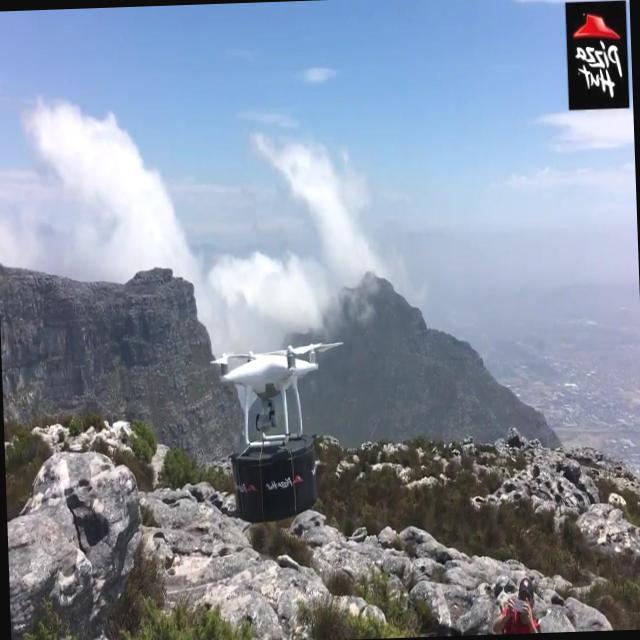drone: (204, 336, 350, 450)
